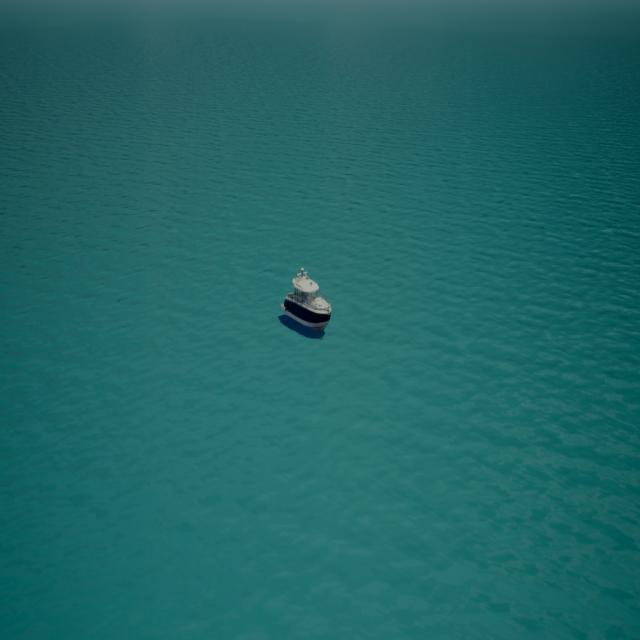ship: (277, 261, 335, 340)
